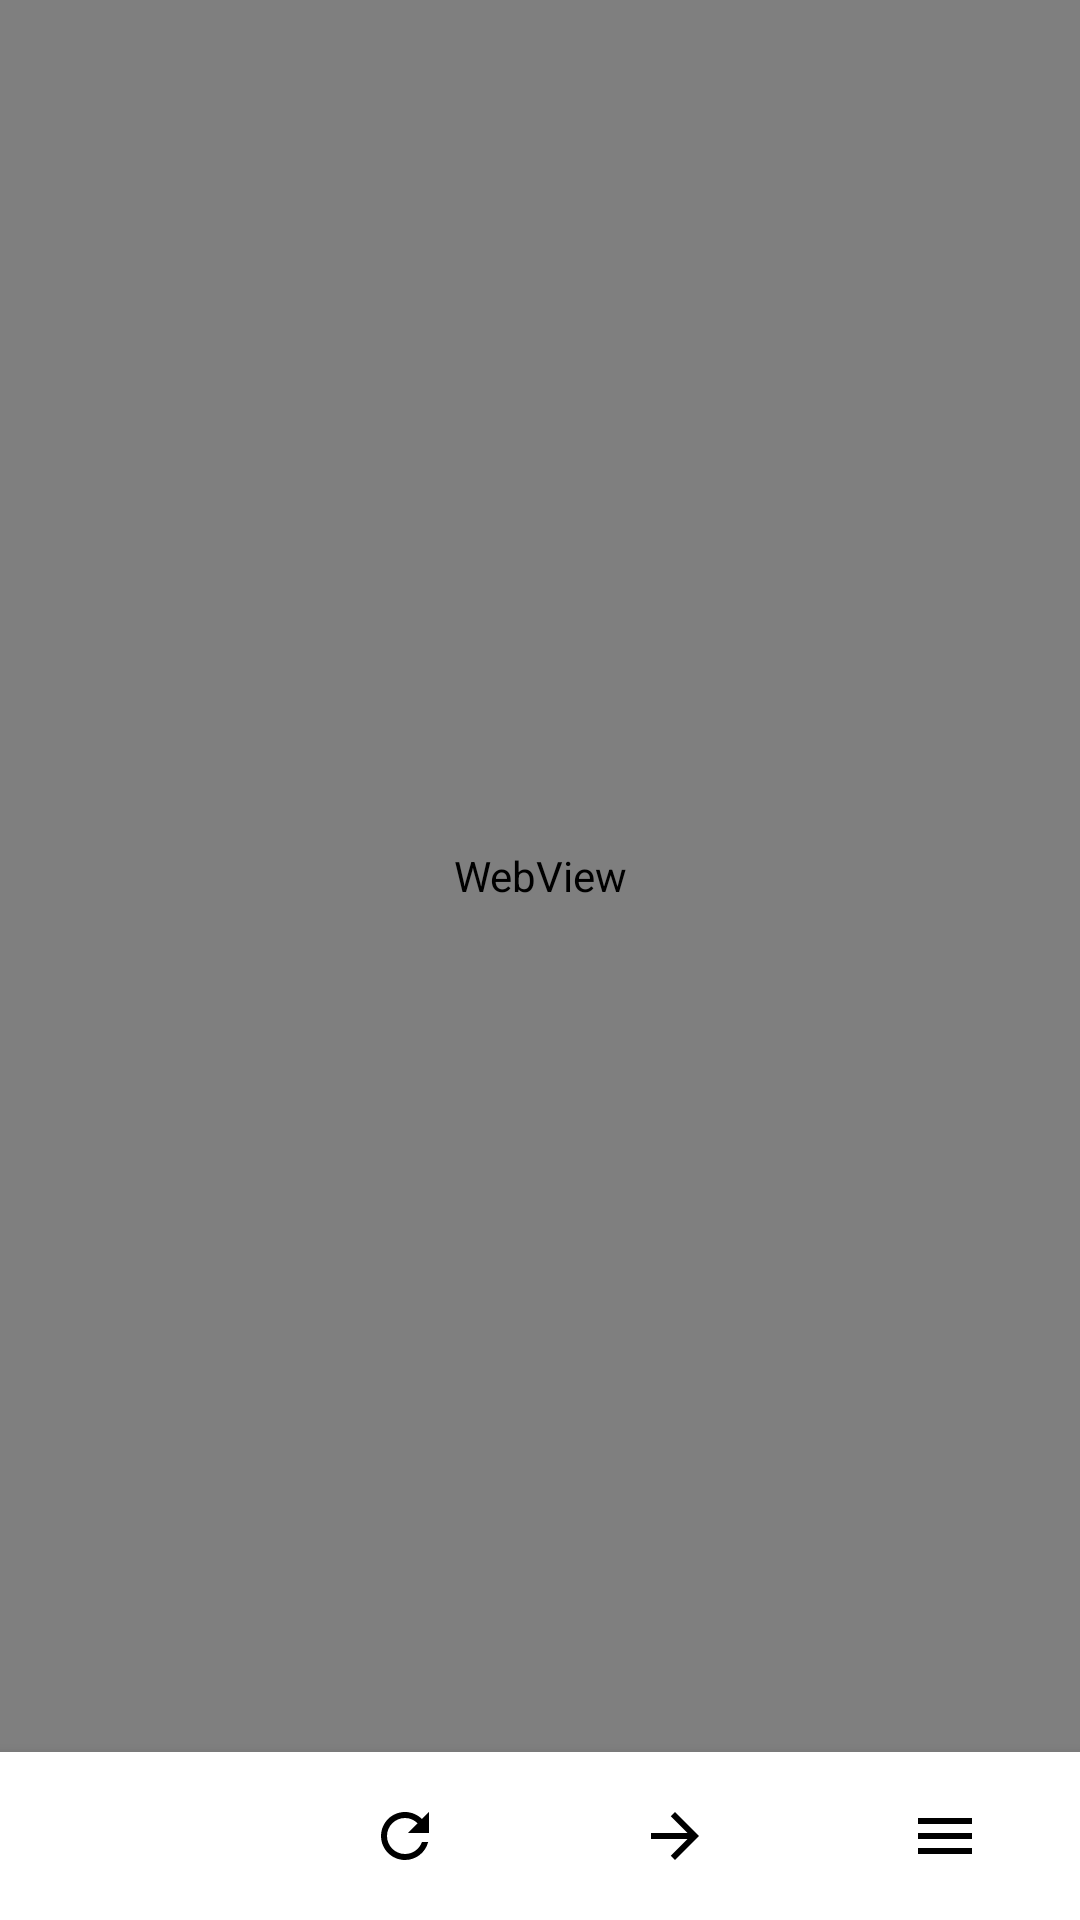

Where icons sit on this 1080×1920 app screen, as (x1, y1, x2, y2):
Forward: (651, 1812, 699, 1860)
Menu: (918, 1818, 972, 1854)
Refresh: (381, 1812, 429, 1860)
